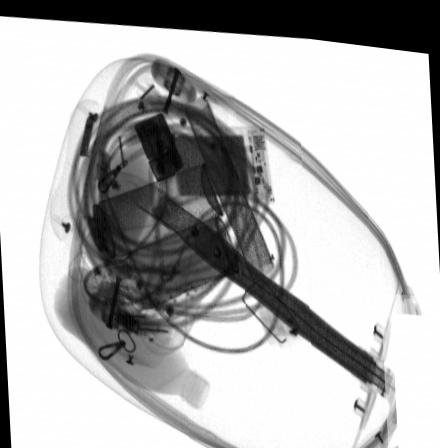Lighter: (134, 106, 185, 177)
Powerbank: (159, 119, 276, 201)
Sprayer: (59, 157, 224, 269)
